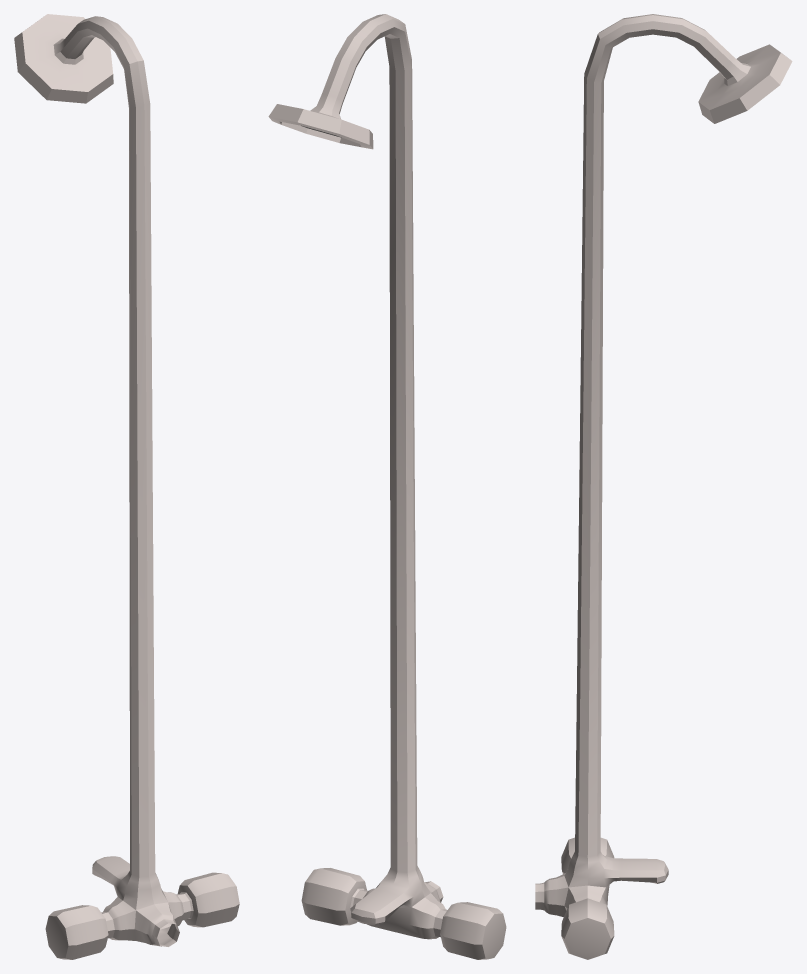
File: Shower.fbx
The picture shows the model from 3 angles, left to right: view 1: azimuth 30°, elevation 25°; view 2: azimuth 150°, elevation 25°; view 3: azimuth 270°, elevation 25°; orthographic projection. The views are drawn at different scales.
Parts seen in each view (by area): view 1: Shower; view 2: Shower; view 3: Shower.
Boxes of the visible parts, x1,y1,x2,y2 form: Shower: [14, 14, 239, 959]; Shower: [268, 14, 506, 959]; Shower: [535, 14, 792, 959].
Bounding box in the file's own units: 41.02 × 202 × 52.08.
